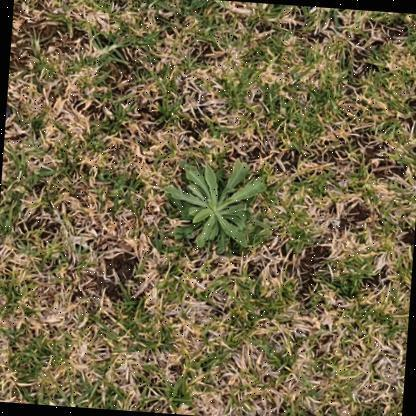Weeds: (159, 152, 269, 258)
